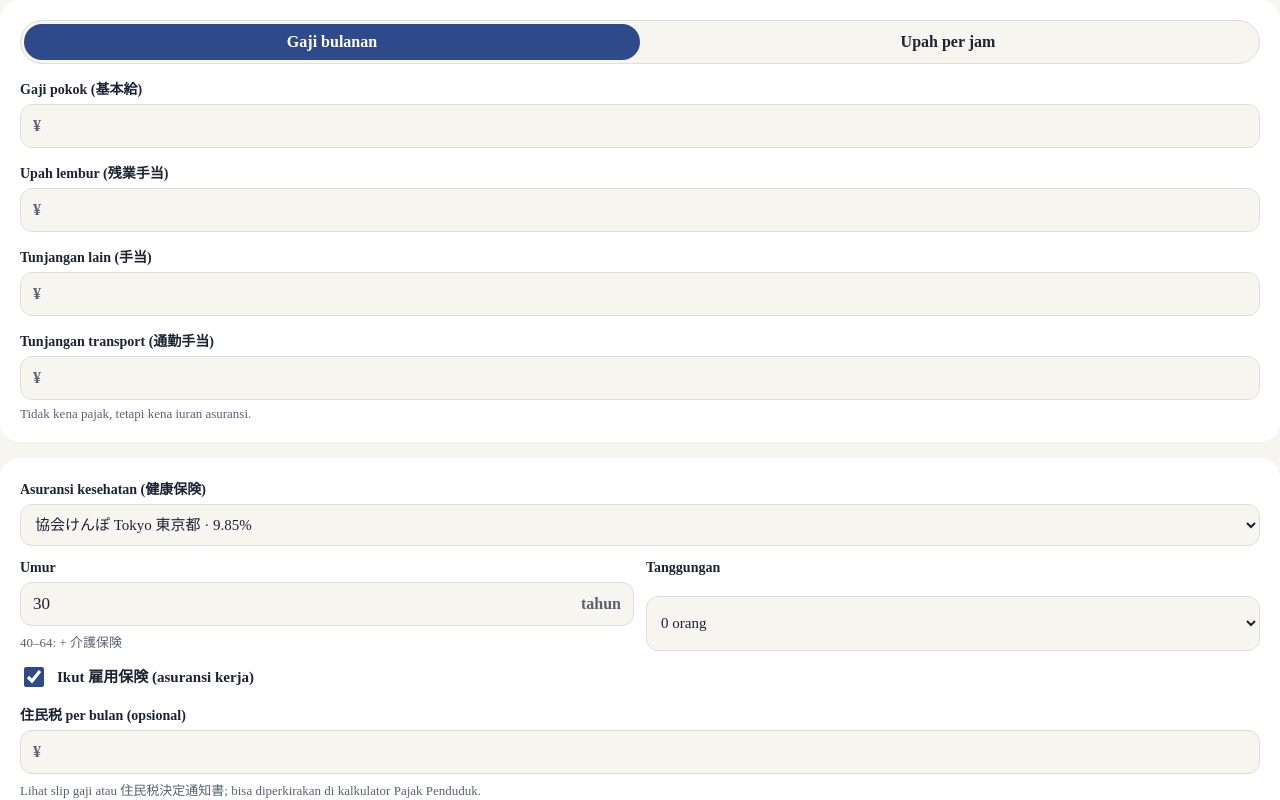
Scenario: Kalkulator Gaji › gaji pokok ¥250,000 di Tokyo, umur 30
The image size is (1280, 800).
Type "250000" into the field labelled "Gaji pokok (基本給)" at (647, 126), box [47,105,1247,147]
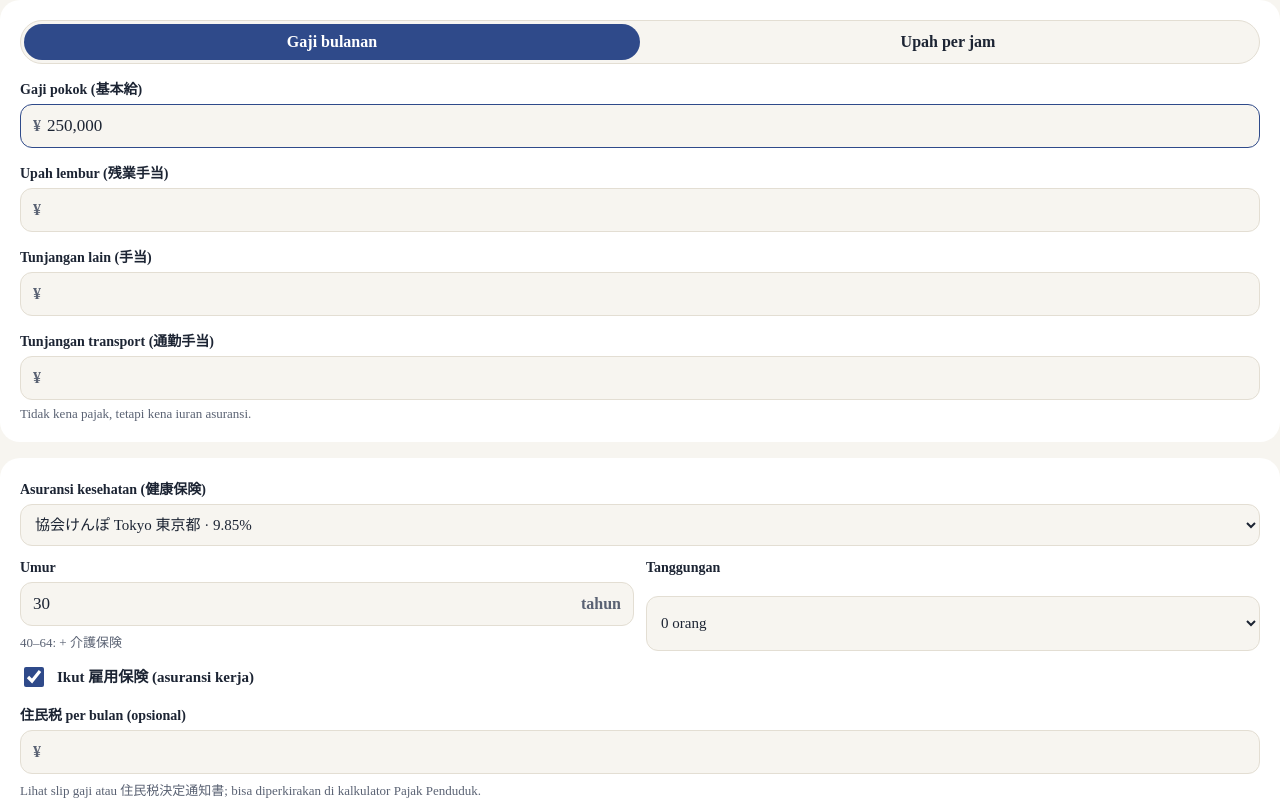
Result: the field labelled "Gaji pokok (基本給)" holds "250,000" at [47,105,1247,147]
